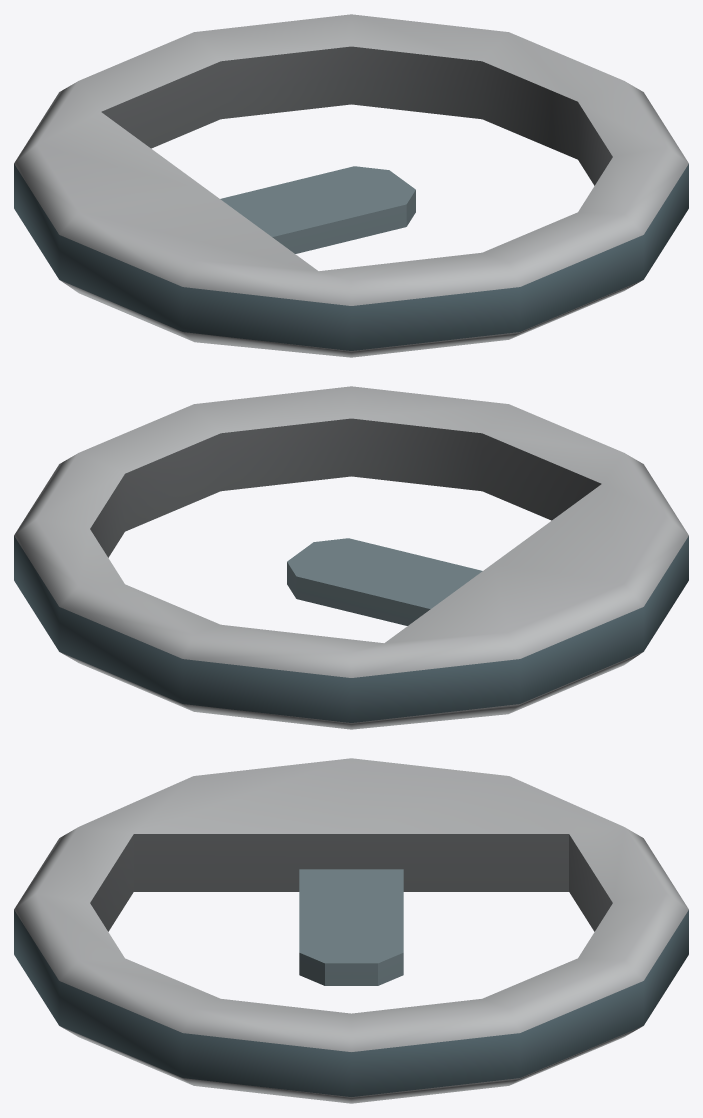
The model's file is Drone_013_wing_001.fbx.
3 renders of one model, top to bottom at view 1: azimuth 30°, elevation 25°; view 2: azimuth 150°, elevation 25°; view 3: azimuth 270°, elevation 25°, orthographic.
Parts seen in each view (by area): view 1: Drone_013_wing_001; view 2: Drone_013_wing_001; view 3: Drone_013_wing_001.
Boxes of the visible parts, x1,y1,x2,y2 form: Drone_013_wing_001: [14, 14, 688, 357]; Drone_013_wing_001: [14, 386, 688, 729]; Drone_013_wing_001: [14, 758, 688, 1103].
Size of the model in its own units: 43.5 by 43.5 by 5.81.
